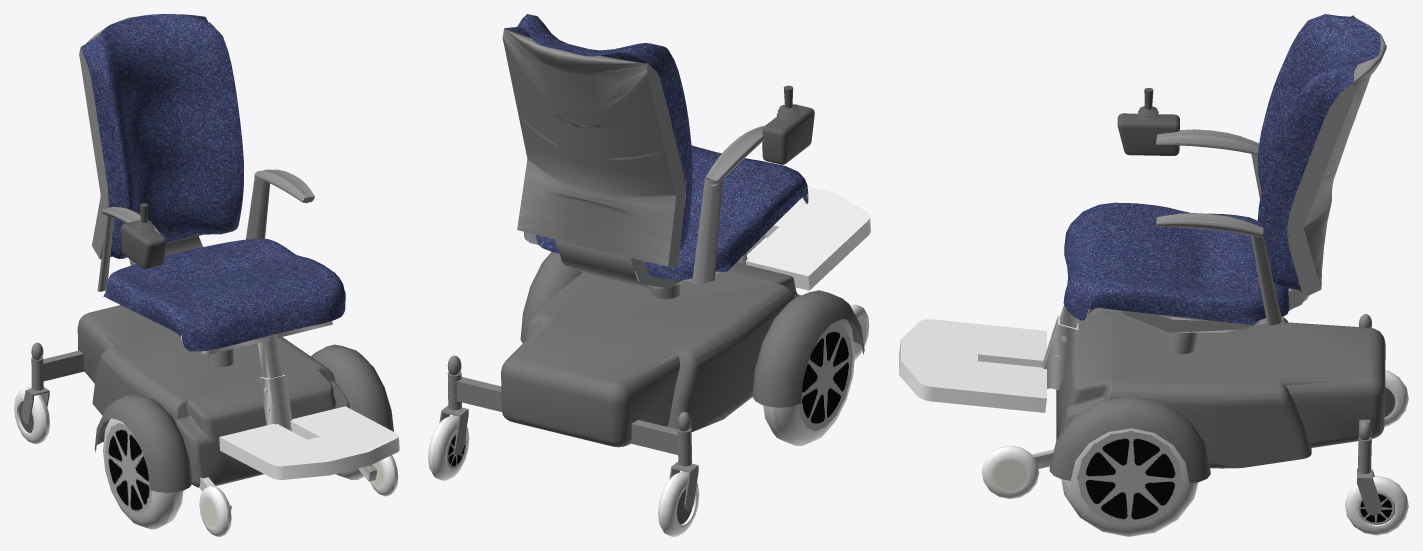
File: eWheel.fbx
3 renders of one model, left to right at view 1: azimuth 30°, elevation 25°; view 2: azimuth 150°, elevation 25°; view 3: azimuth 270°, elevation 25°, orthographic. The views are drawn at different scales.
Visible parts, largest first — view 1: Mesh52; view 2: Mesh52; view 3: Mesh52.
Part boxes in pixels (x1,y1,x2,y2): Mesh52: (14, 14, 399, 536); Mesh52: (428, 14, 870, 536); Mesh52: (899, 14, 1408, 536).
Size of the model in its own units: 143 by 225 by 237.
